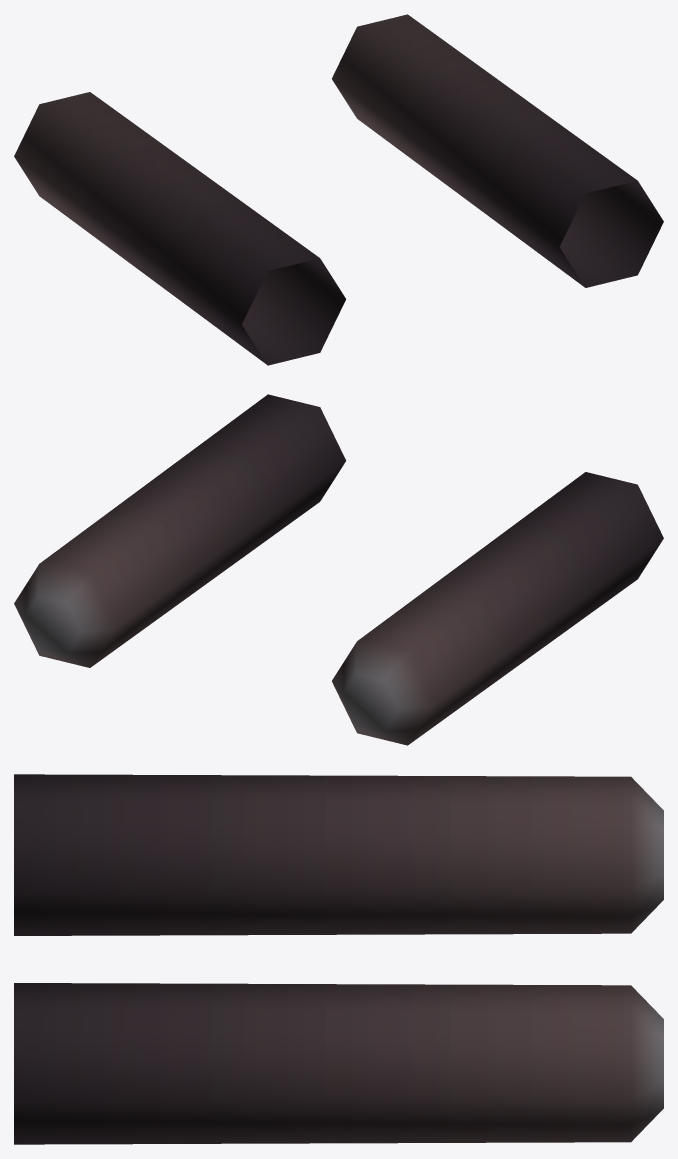
File: Bridge 01 Pole.FBX
The picture shows the model from 3 angles, top to bottom: view 1: azimuth 30°, elevation 25°; view 2: azimuth 150°, elevation 25°; view 3: azimuth 270°, elevation 25°; orthographic projection. The views are drawn at different scales.
Visible parts, largest first — view 1: Bridge 01 Pole; view 2: Bridge 01 Pole; view 3: Bridge 01 Pole.
Part boxes in pixels (x1=…): Bridge 01 Pole: x1=14, y1=14, x2=663, y2=365; Bridge 01 Pole: x1=14, y1=394, x2=663, y2=745; Bridge 01 Pole: x1=14, y1=774, x2=663, y2=1144.
Size of the model in its own units: 305 by 65.4 by 302.
1 material, 1 textured.
